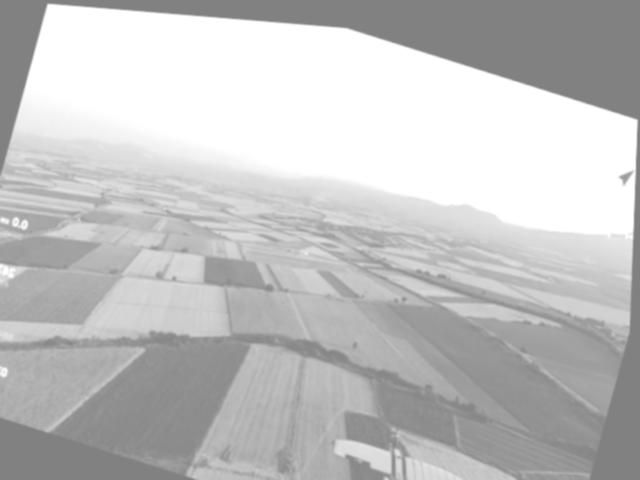hedef: (317, 408, 486, 480)
